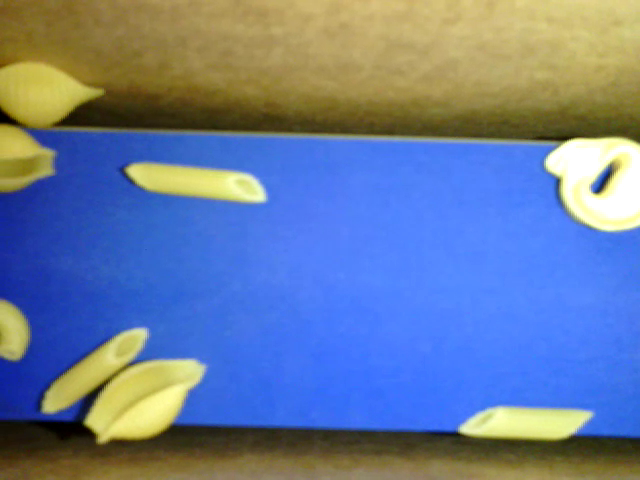elbow: (1, 299, 31, 361)
penne: (41, 326, 148, 415), (124, 161, 266, 203), (459, 405, 594, 441)
shell: (82, 358, 207, 445), (1, 61, 105, 129), (1, 123, 57, 195)
tortellini: (543, 136, 639, 230)
